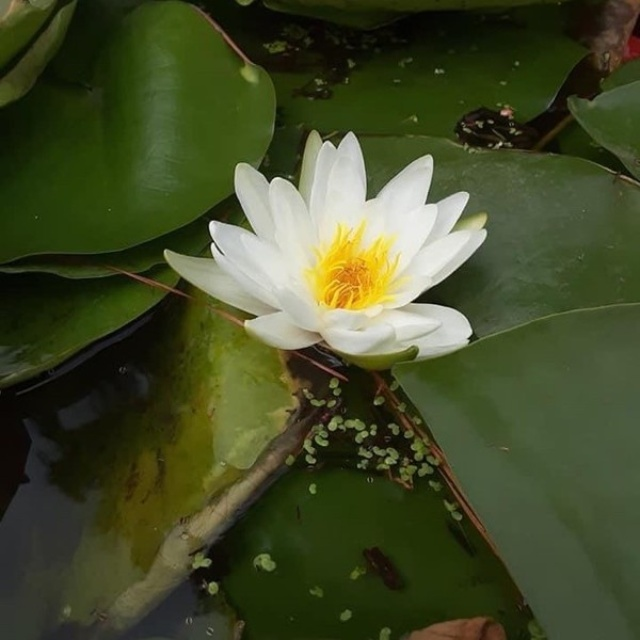obstacle: (93, 87, 579, 542)
